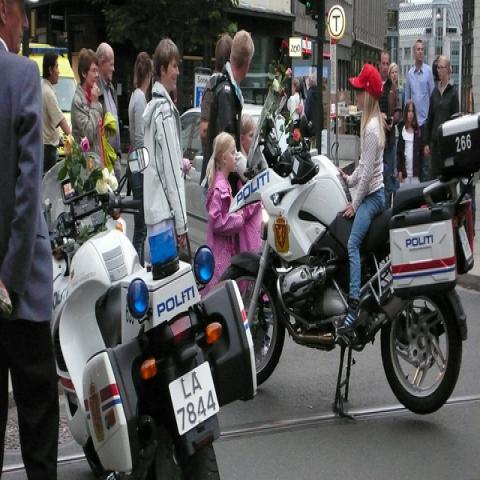car: (177, 101, 264, 250), (18, 41, 78, 132)
motorcycle: (218, 91, 473, 419), (42, 144, 259, 470)
